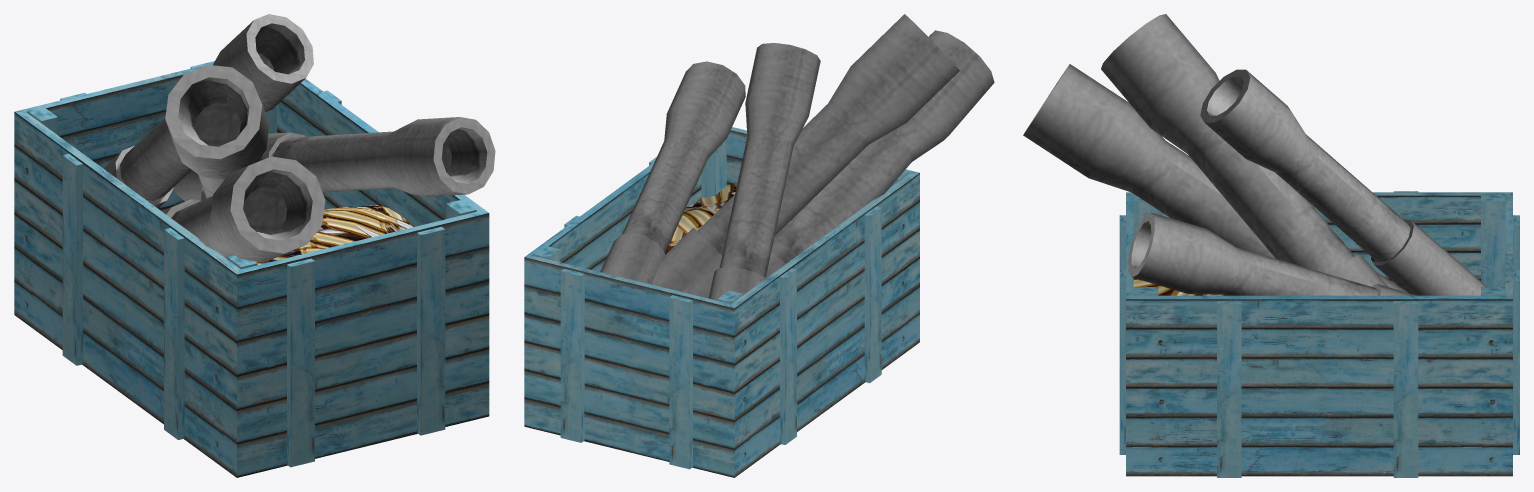
The model's file is powerupGun.obj.
The picture shows the model from 3 angles, left to right: view 1: azimuth 30°, elevation 25°; view 2: azimuth 150°, elevation 25°; view 3: azimuth 270°, elevation 25°; orthographic projection. The views are drawn at different scales.
Visible parts, largest first — view 1: Cylinder006; view 2: Cylinder006; view 3: Cylinder006.
Boxes of the visible parts, box(x1,y1,x2,y2) form: Cylinder006: box(14, 14, 495, 477); Cylinder006: box(524, 14, 994, 477); Cylinder006: box(1023, 14, 1519, 477).
Size of the model in its own units: 11.72 by 13.83 by 17.82.
3 materials, 3 textured.
